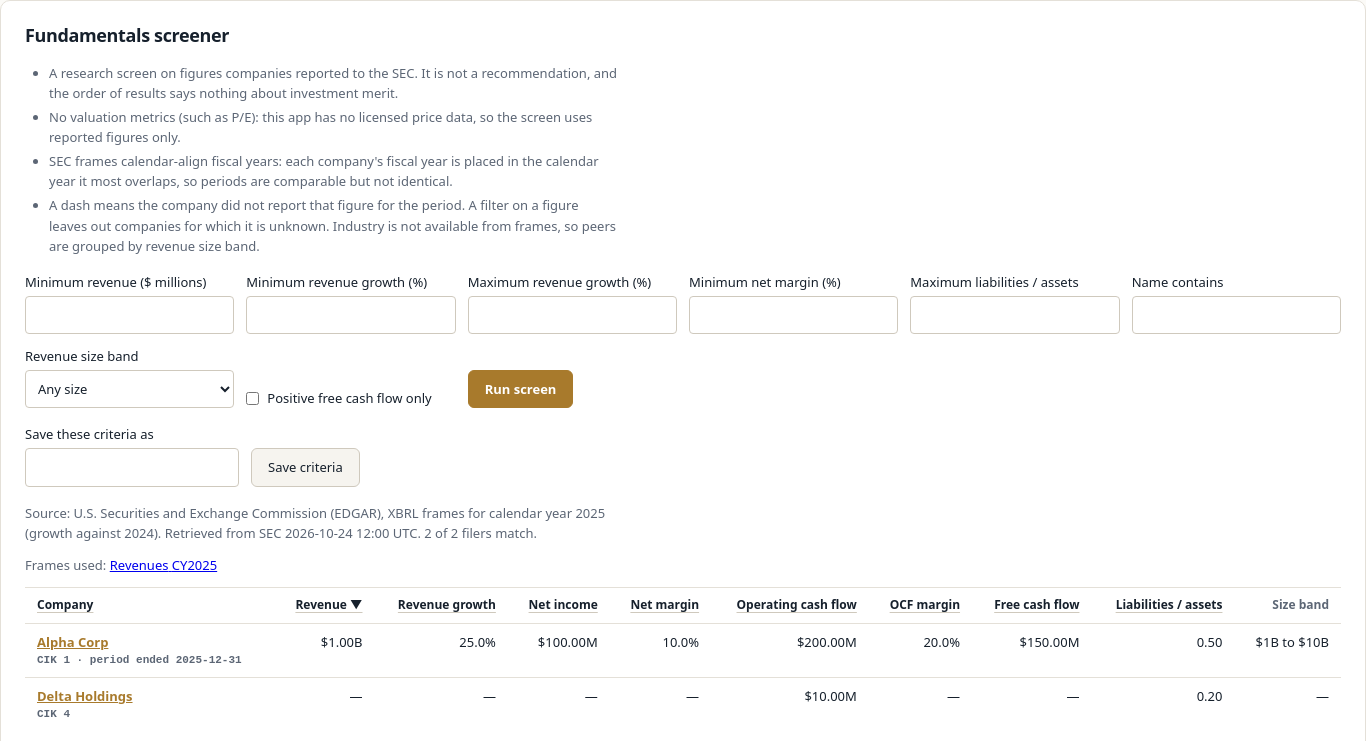
ScreenerPanel › rejects contradictory growth bounds without a request
The width and height of the screenshot is (1366, 741).
Expected: the table is shown, x1=25 y1=587 x2=1341 y2=731
Step 1. Type "20" into the number field labelled "Minimum revenue growth (%)" → [351, 315], box x1=246 y1=296 x2=456 y2=334
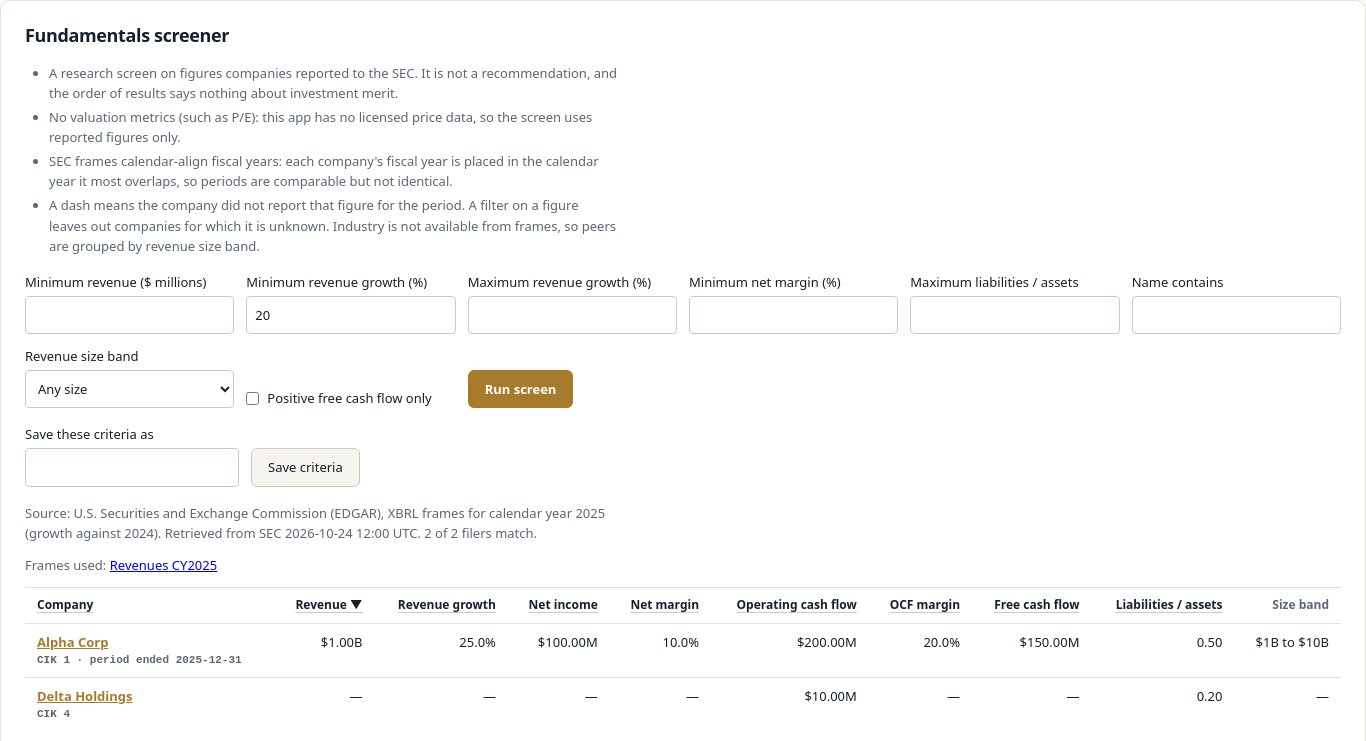
Step 2. Type "5" into the number field labelled "Maximum revenue growth (%)" → [572, 315], box x1=468 y1=296 x2=677 y2=334
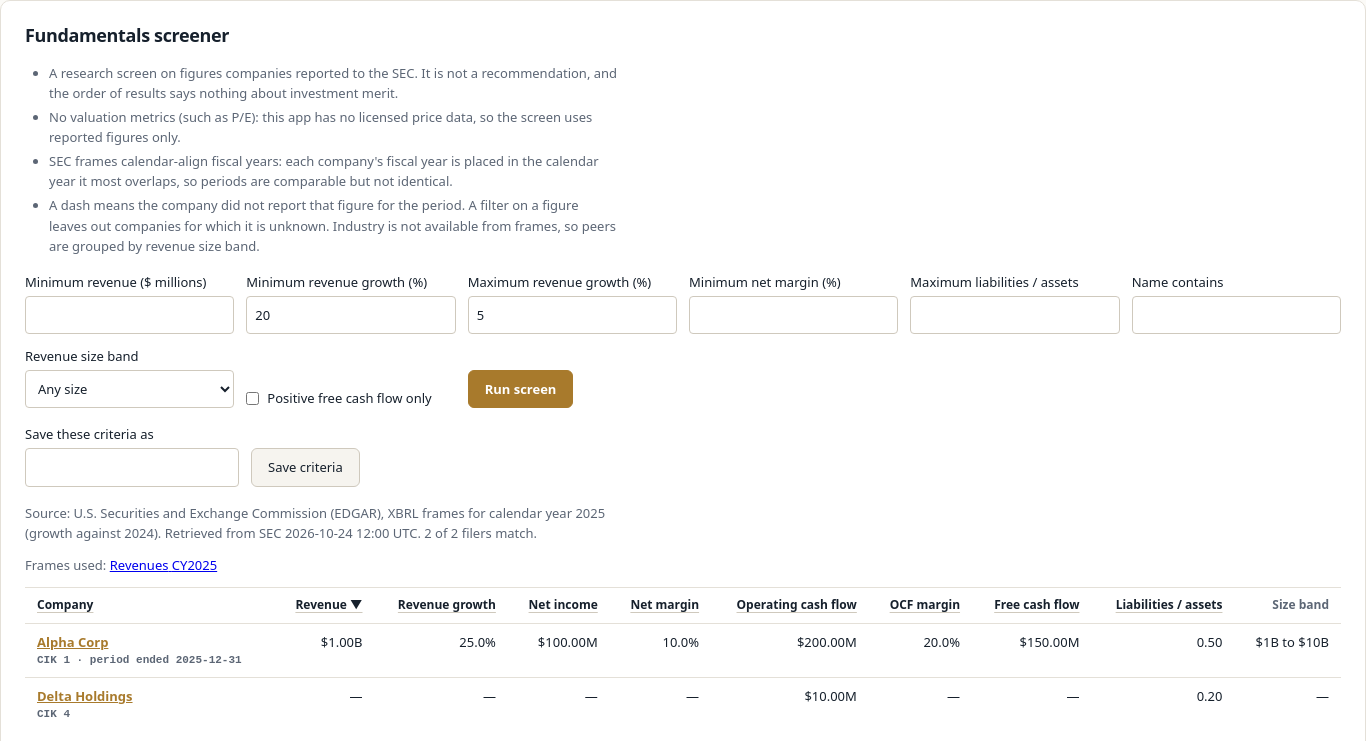
Step 3. Click the button "Run screen" → [521, 389], box x1=468 y1=370 x2=573 y2=408
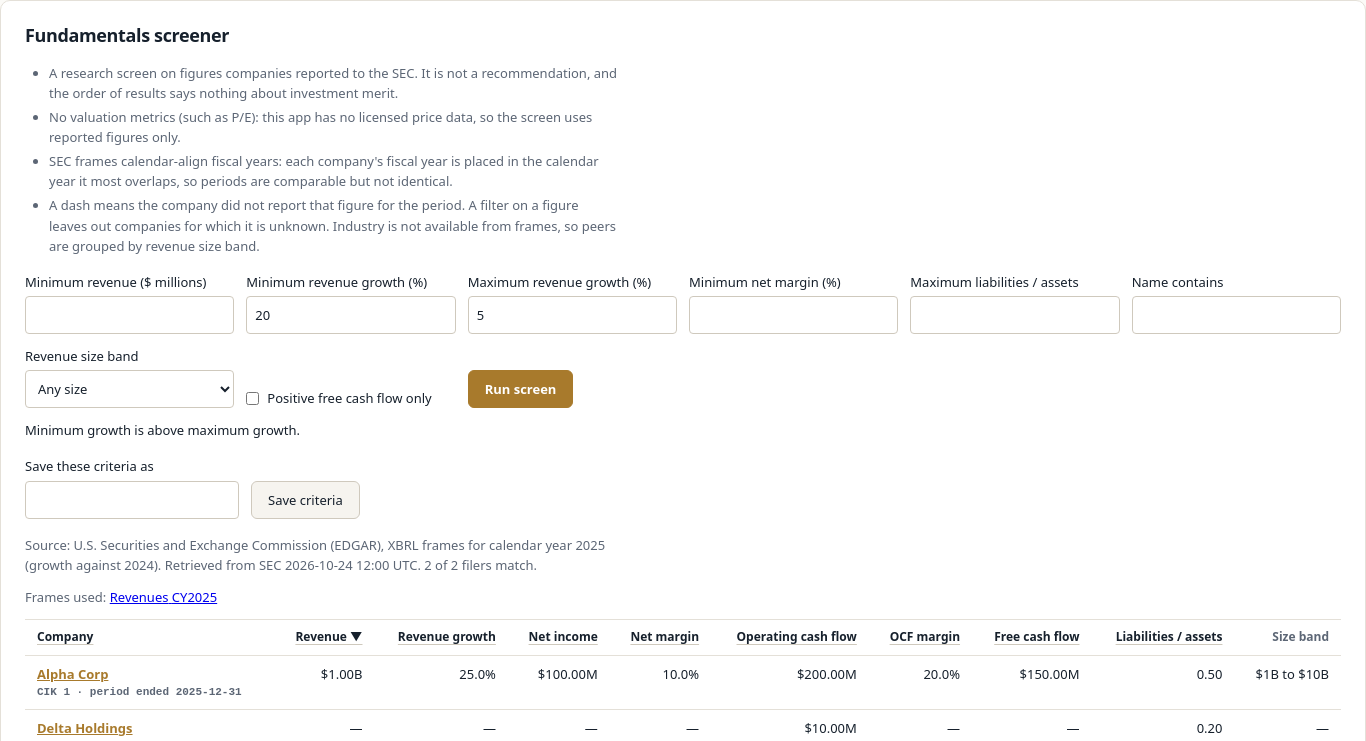
Expected: the message shows "above maximum growth", x1=25 y1=421 x2=300 y2=439
